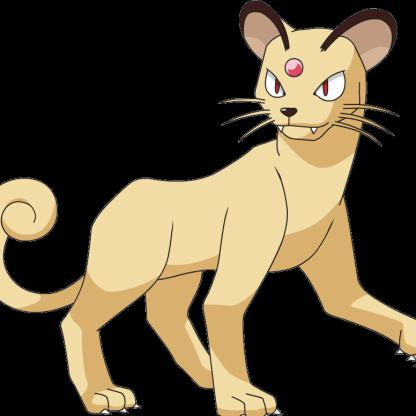Persian: (1, 3, 416, 416)
